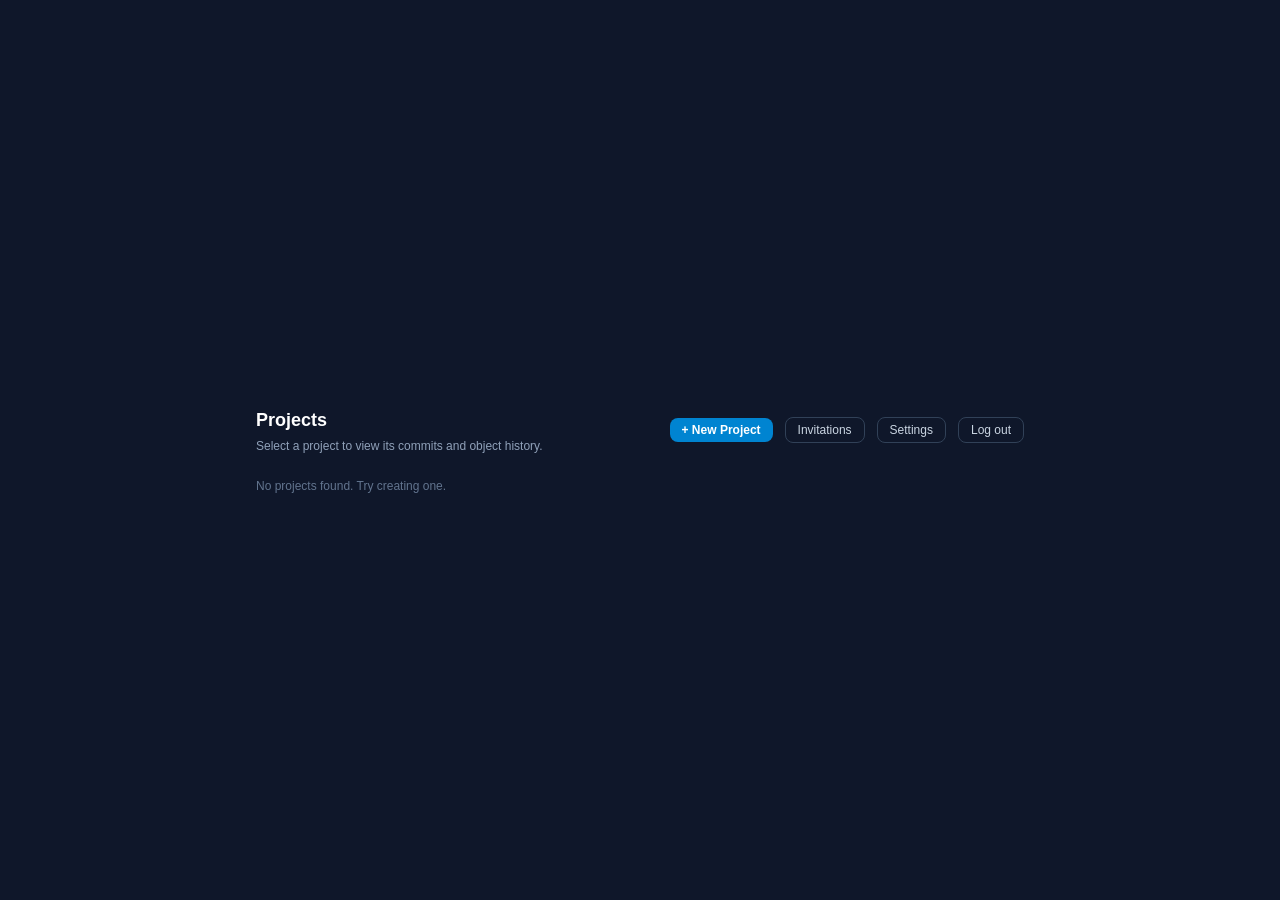
Test: ProjectsPage › applies max length attributes in the create project form
The width and height of the screenshot is (1280, 900).
Click the button "+ New Project" at (721, 430), box [670,418,772,442]
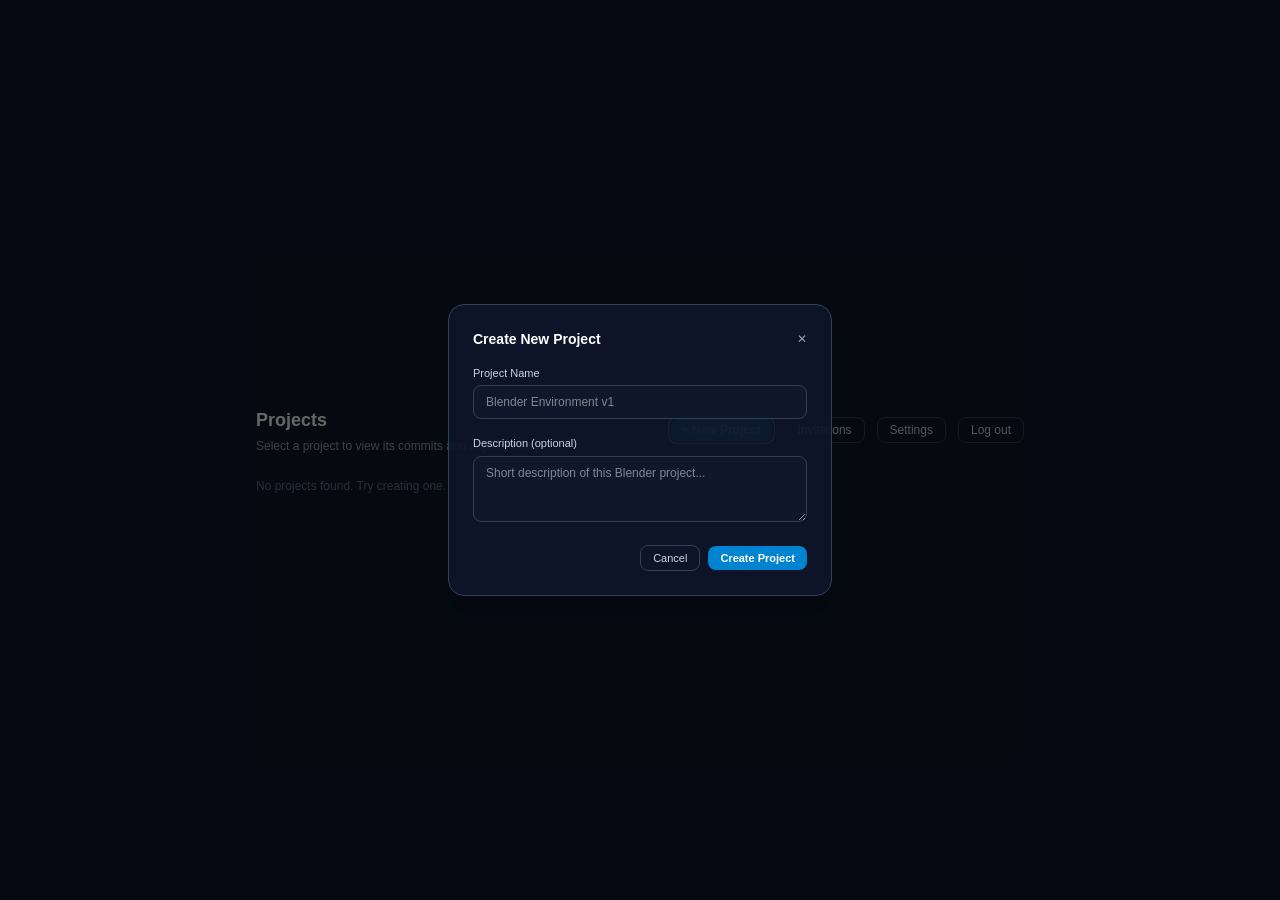
Result: the heading "Create New Project" is shown at [473,329,601,349]
